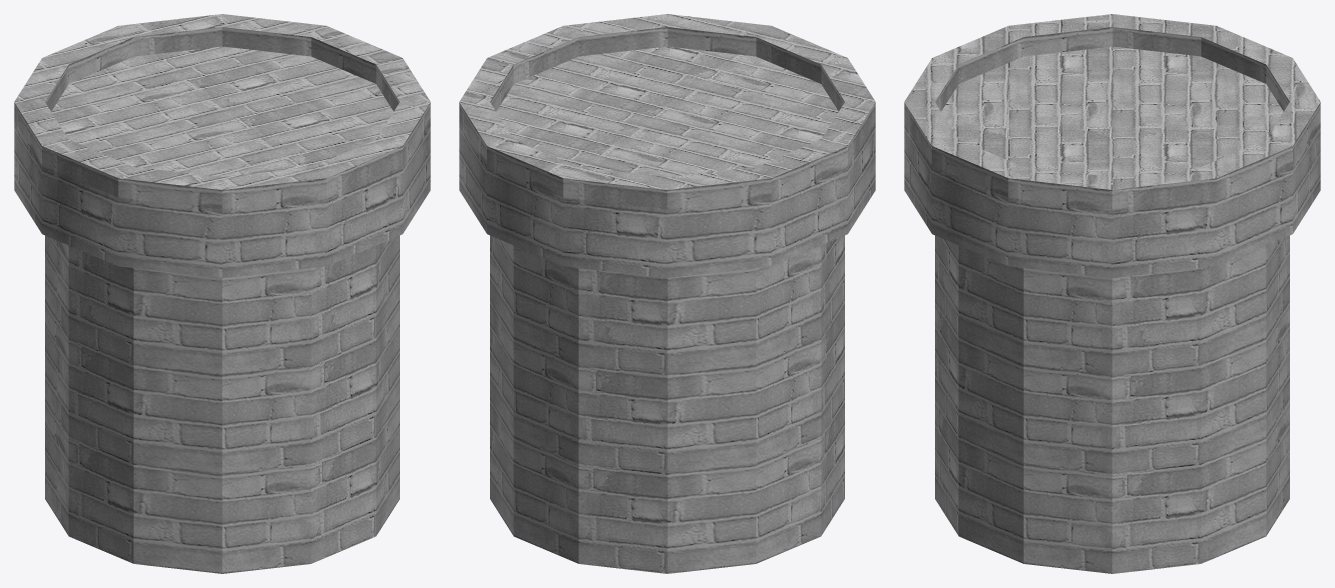
File: BaseTorres_Redondo_Mapa06.FBX
3 renders of one model, left to right at view 1: azimuth 30°, elevation 25°; view 2: azimuth 150°, elevation 25°; view 3: azimuth 270°, elevation 25°, orthographic.
Parts seen in each view (by area): view 1: Cylinder006; view 2: Cylinder006; view 3: Cylinder006.
Part boxes in pixels (x1=…): Cylinder006: x1=14, y1=14, x2=430, y2=573; Cylinder006: x1=459, y1=14, x2=875, y2=573; Cylinder006: x1=904, y1=14, x2=1320, y2=573.
Size of the model in its own units: 135 by 142 by 135.
